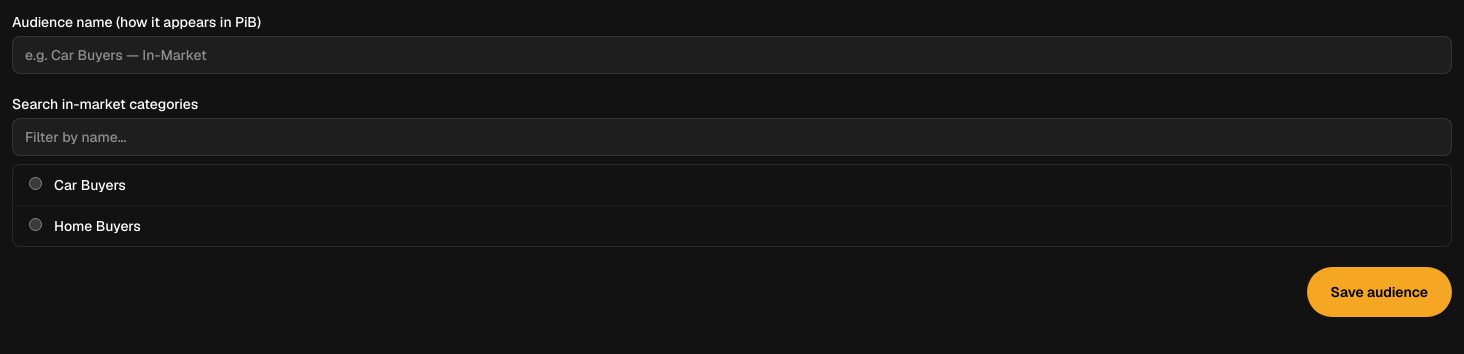
Test: InMarketPicker › Save button is disabled until name and audience are both selected
The width and height of the screenshot is (1464, 354).
Expected: the radio button labelled "Car Buyers" is shown, [29, 177, 42, 190]
Expected: the button "Save audience" is disabled, [1307, 267, 1452, 317]
Type "Car Buyers" into the field labelled "Audience name (how it appears in PiB)".
click(732, 55); type("Car Buyers")  # box [12, 36, 1452, 74]
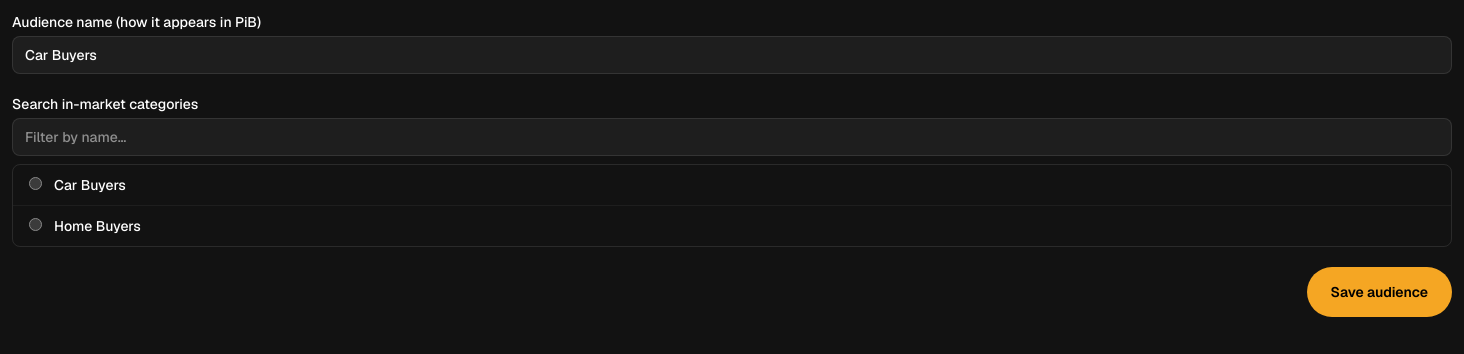
Expected: the button "Save audience" is disabled, [1307, 267, 1452, 317]
Click the radio button labelled "Car Buyers".
click(36, 184)  # box [29, 177, 42, 190]
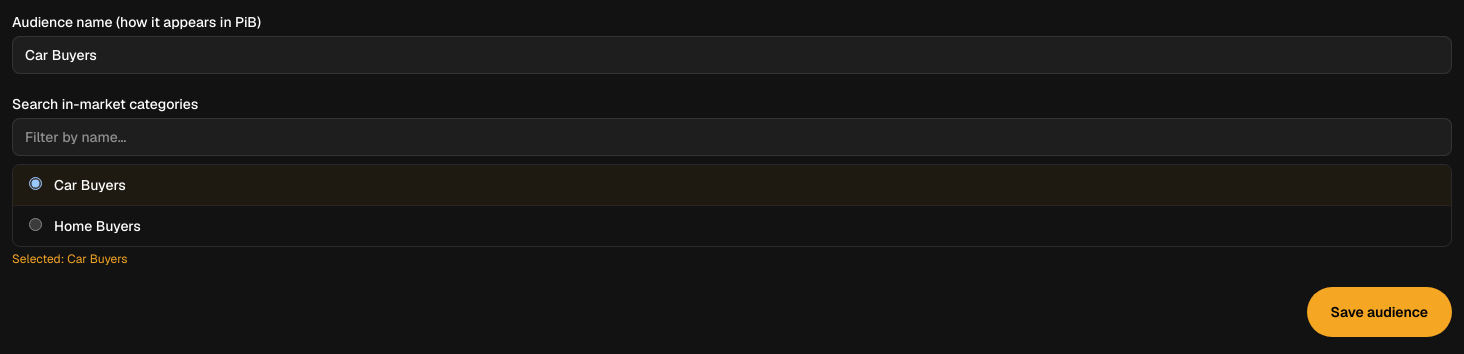
Expected: the button "Save audience" is enabled, [1307, 287, 1452, 337]
